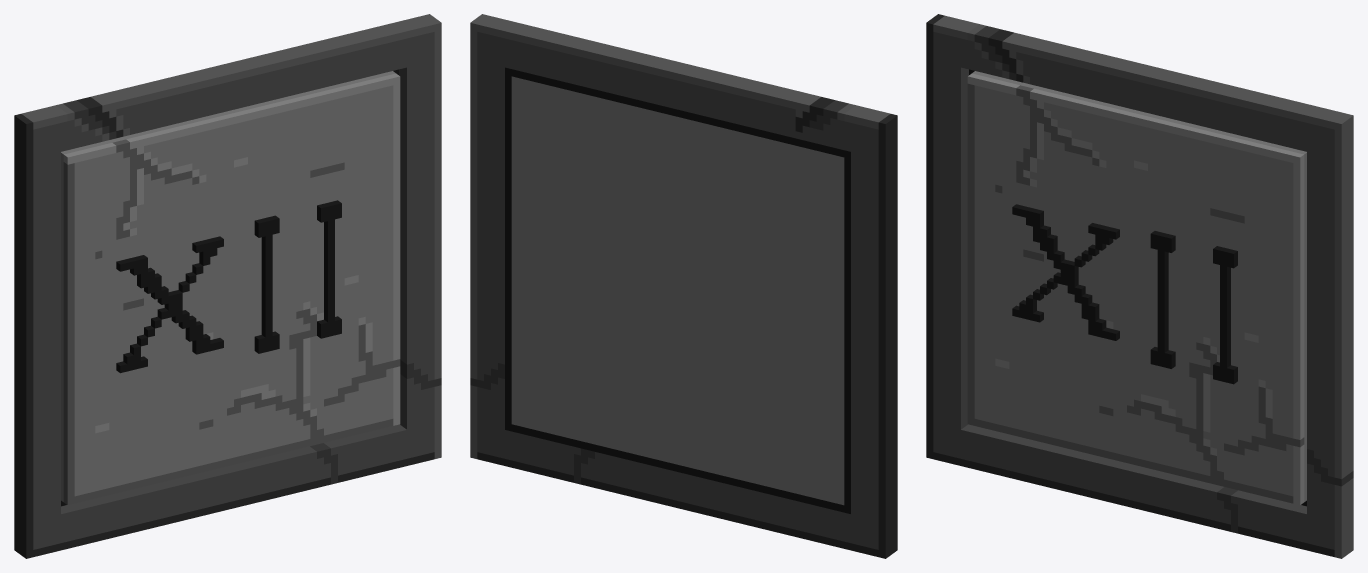
Rendered from balpan_11.obj.
3 renders of one model, left to right at view 1: azimuth 30°, elevation 25°; view 2: azimuth 150°, elevation 25°; view 3: azimuth 330°, elevation 25°, orthographic.
Parts seen in each view (by area): view 1: balpan_11; view 2: balpan_11; view 3: balpan_11.
Part boxes in pixels (x1,y1,x2,y2): balpan_11: (14,14,441,558); balpan_11: (470,14,897,558); balpan_11: (926,14,1353,558).
Bounding box in the file's own units: 60 × 60 × 4.
Materials: 1 (1 with a texture image).
